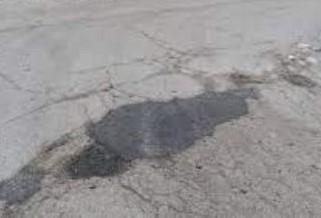pothole: (0, 82, 122, 126), (114, 44, 253, 82), (227, 157, 311, 218), (114, 173, 211, 216), (119, 17, 199, 66), (10, 179, 90, 218), (268, 44, 321, 97)
